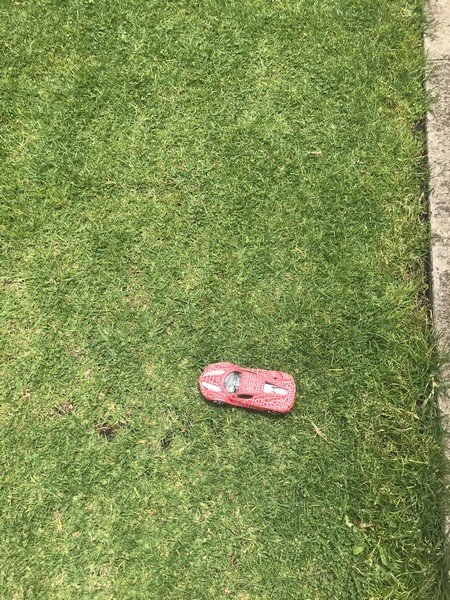RC: (199, 360, 296, 418)
